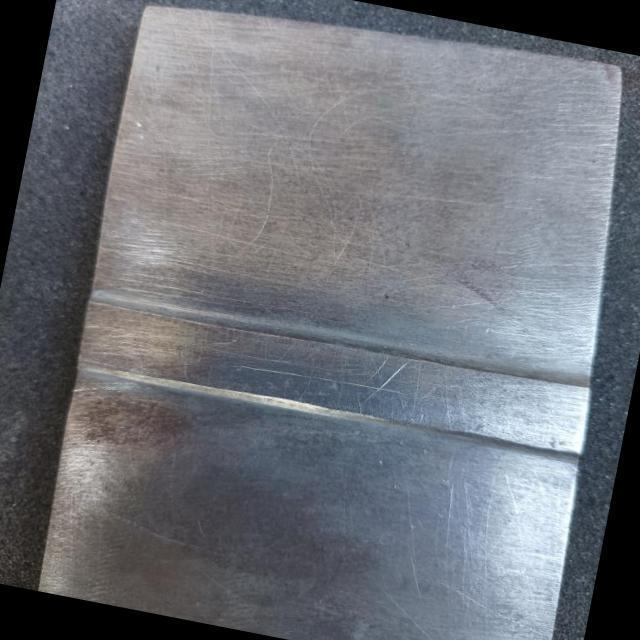defect: (231, 364, 414, 397)
